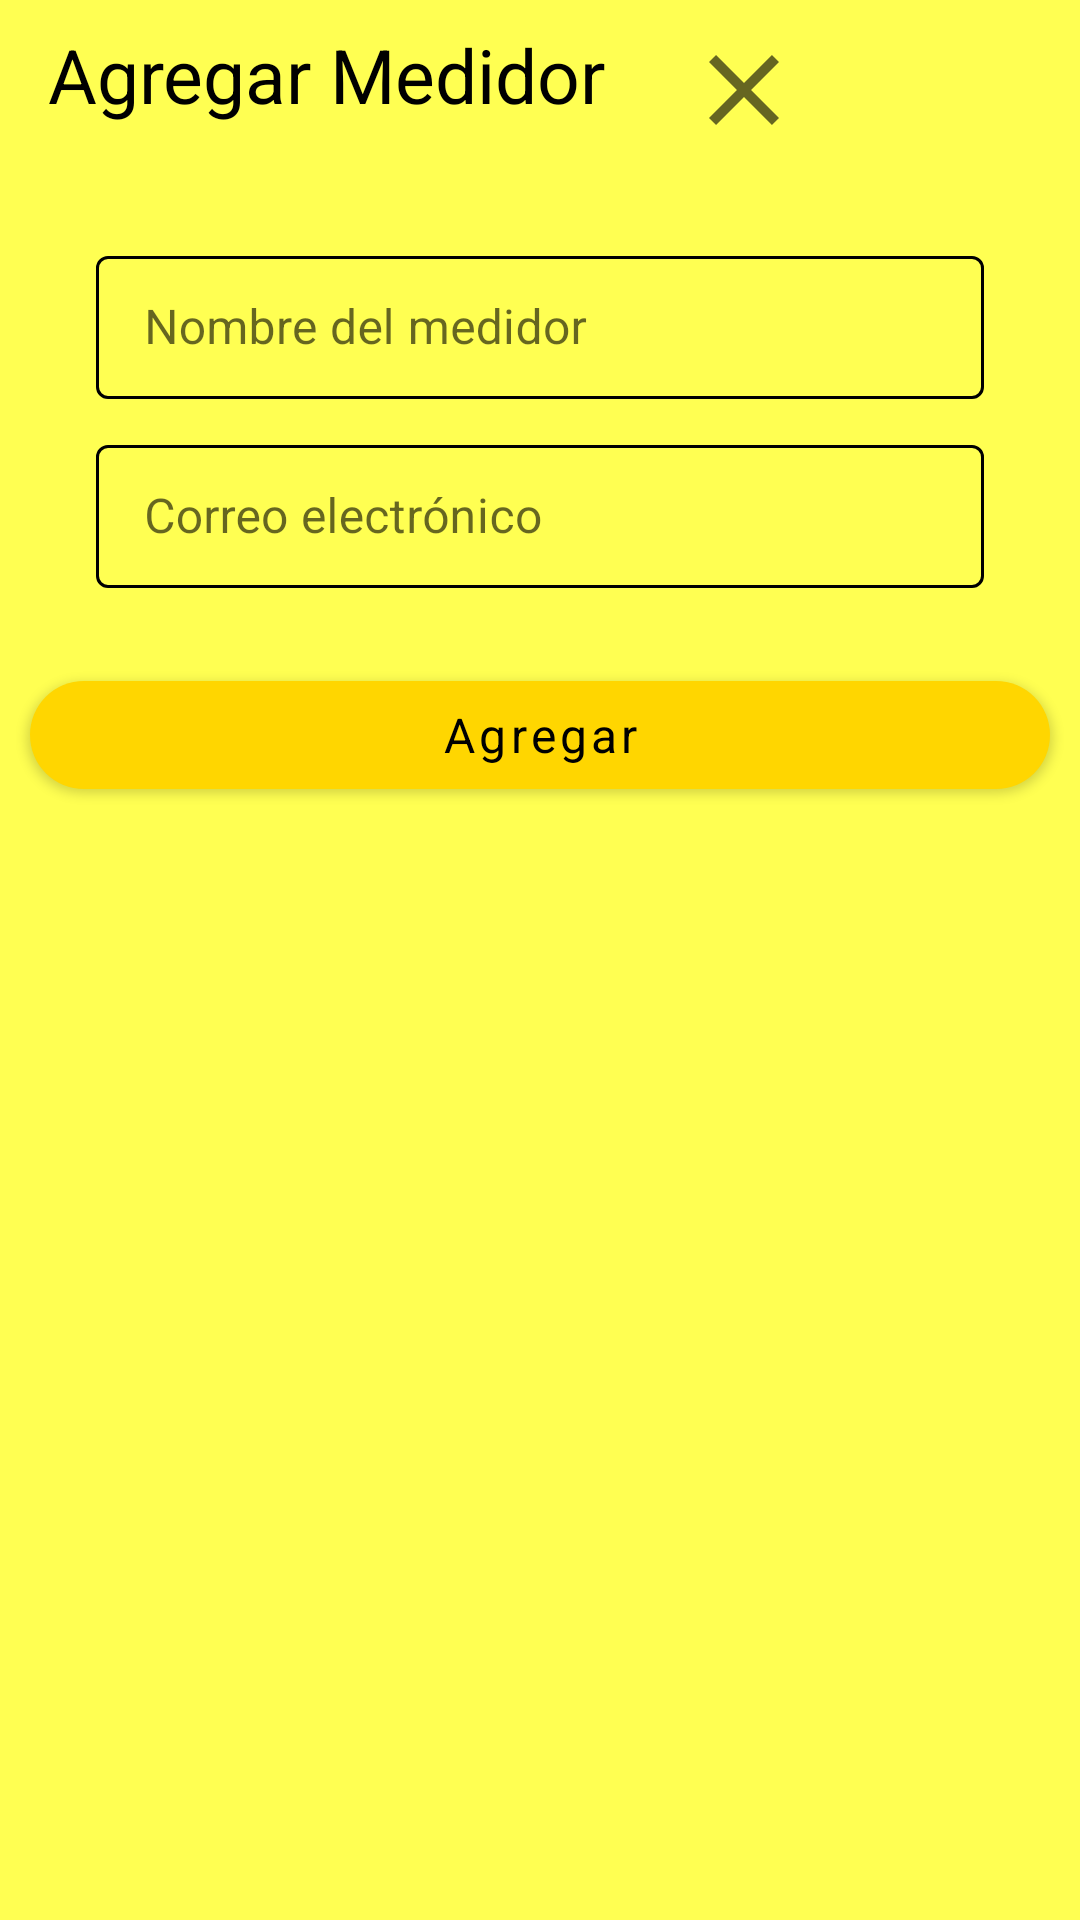

Icon click points for this 1080w x 1920h phone screenshot, format point (x, y):
close: point (744, 90)
